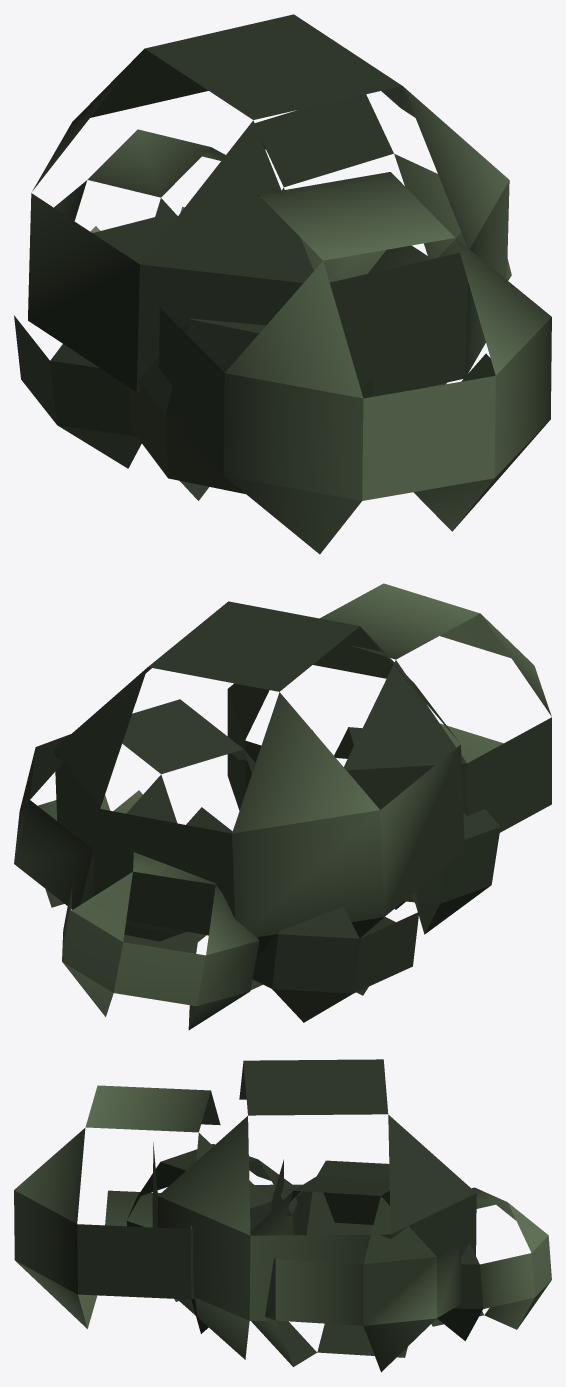
Rendered from shrub_mass.glb.
3 renders of one model, top to bottom at view 1: azimuth 30°, elevation 25°; view 2: azimuth 150°, elevation 25°; view 3: azimuth 270°, elevation 25°, orthographic. The views are drawn at different scales.
Visible parts, largest first — view 1: props_shrub_mass; view 2: props_shrub_mass; view 3: props_shrub_mass.
Part boxes in pixels (bbox=[...]): props_shrub_mass: bbox=[14, 14, 551, 554]; props_shrub_mass: bbox=[14, 583, 551, 1030]; props_shrub_mass: bbox=[14, 1059, 551, 1372].
Size of the model in its own units: 1.07 by 0.852 by 1.6.
